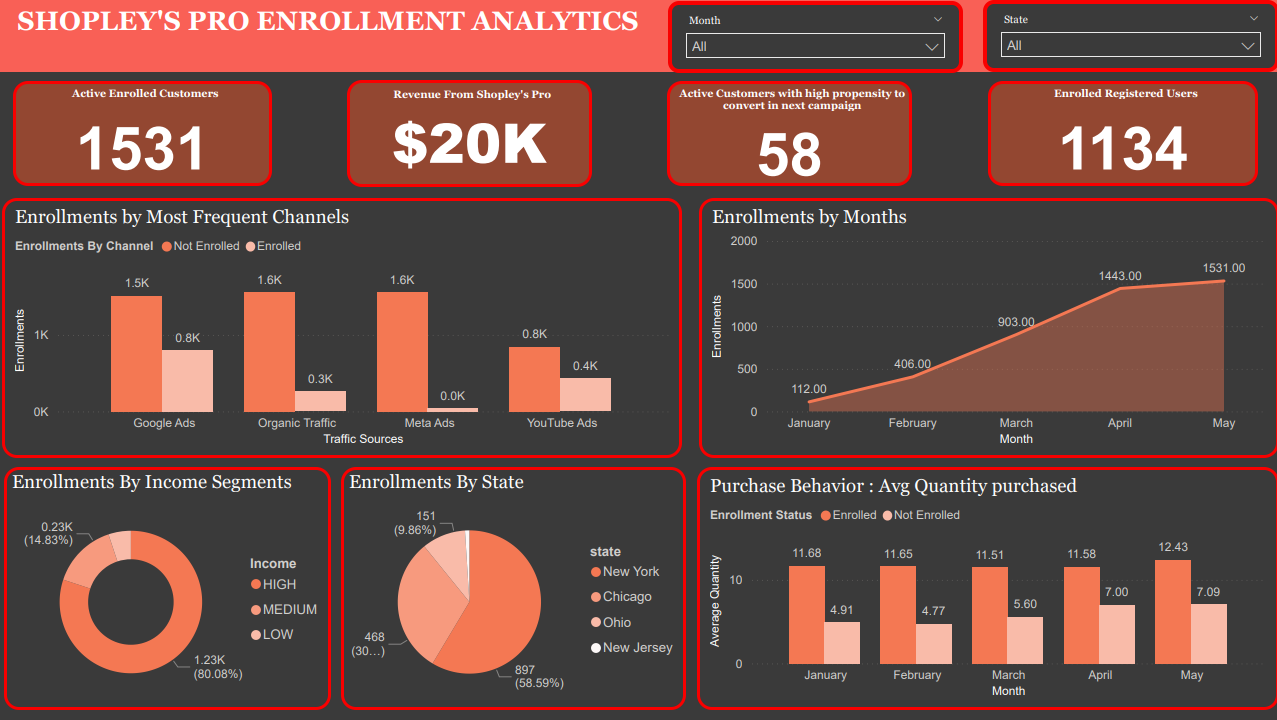

The dashboard page shown, as its layout file describes it:
{"tool":"powerbi","page":{"name":"Shopley Pro Subscription Analytics","canvas":[1280,720],"ordinal":1},"visuals":[{"type":"shape","box":[0,0,1280,72.2],"z":0},{"type":"textbox","box":[0,1.4,1062.9,70],"z":1000},{"type":"card","title":"Active Customers with high propensity to convert in next campaign","fields":{"Values":["Measures_Subscription_Analytics.Active Customers with more than 30% probability of conversion"]},"box":[668,80.8,245.3,105.3],"z":2000},{"type":"card","title":"Revenue From Shopley''s Pro","fields":{"Values":["Measures_Subscription_Analytics.Subscription Revenue YTD"]},"box":[347.6,79.8,245.7,107.1],"z":3000},{"type":"slicer","fields":{"Values":["MASTER_CUSTOMER_TABLE.state"]},"box":[983.6,0,296.4,71.8],"z":4000},{"type":"card","title":"Active Enrolled Customers","fields":{"Values":["Measures_Overview.Enrollment_Count"]},"box":[14.3,80.5,258.6,105.7],"z":5000},{"type":"pieChart","title":"Enrollments By State","fields":{"Category":["MASTER_CUSTOMER_TABLE.state"],"Y":["Measures_Overview.Enrollment_Count"]},"box":[341.7,466.7,345,243.3],"z":6000},{"type":"clusteredColumnChart","title":"Enrollments by Most Frequent Channels","fields":{"Y":["Count(MASTER_CUSTOMER_TABLE.customer_id)"],"Category":["MASTER_CUSTOMER_TABLE.traffic_Channel"],"Series":["Loyalty_Program_Data_CMA.enrollment_status"]},"box":[3.3,198.3,680,260],"z":7000},{"type":"card","title":"Enrolled Registered Users","fields":{"Values":["Measures_Subscription_Analytics.Enrolled Registered Users"]},"box":[988.6,80.5,270,105.7],"z":8000},{"type":"slicer","fields":{"Values":["Loyalty_Program_Data_CMA.enrollment_date.Variation.Date Hierarchy.Month"]},"box":[668.6,1.4,295.7,71.4],"z":9000},{"type":"donutChart","title":"Enrollments By Income Segments","fields":{"Y":["Measures_Overview.Enrollment_Count"],"Category":["MASTER_CUSTOMER_TABLE.income"]},"box":[5,466.7,326.7,243.3],"z":10000},{"type":"areaChart","title":"Enrollments by Months","fields":{"Category":["Loyalty_Program_Data_CMA.enrollment_date.Variation.Date Hierarchy.Month"],"Y":["Measures_Subscription_Analytics.Enrollment_Count_Running_Total"]},"box":[700,198.3,580,260],"z":11000},{"type":"clusteredColumnChart","title":"Purchase Behavior  : Avg Quantity purchased ","fields":{"Category":["Web_analytics_Data_CMA.date_of_visit.Variation.Date Hierarchy.Month"],"Y":["Measures_Subscription_Analytics.Avg_Quantities_Purchased_by_enrolled","Measures_Subscription_Analytics.Avg_Quantities_Purchased_by_not_enrolled"]},"box":[698.3,466.7,581.7,243.3],"z":12000}]}

Visuals, with their boxes in screenshot pixels (x1, y1, x2, y2), scaled from the page's 1280x720 canvas onto the 1277x720 screenshot:
shape: [0,0,1276,72]
textbox: [0,1,1060,71]
"Active Customers with high propensity to convert in next campaign" card: [666,81,911,186]
"Revenue From Shopley''s Pro" card: [347,80,592,187]
slicer - MASTER_CUSTOMER_TABLE.state: [981,0,1276,72]
"Active Enrolled Customers" card: [14,80,272,186]
"Enrollments By State" pieChart: [341,467,685,710]
"Enrollments by Most Frequent Channels" clusteredColumnChart: [3,198,682,458]
"Enrolled Registered Users" card: [986,80,1256,186]
slicer - Loyalty_Program_Data_CMA.enrollment_date.Variation.Date Hierarchy.Month: [667,1,962,73]
"Enrollments By Income Segments" donutChart: [5,467,331,710]
"Enrollments by Months" areaChart: [698,198,1276,458]
"Purchase Behavior  : Avg Quantity purchased " clusteredColumnChart: [697,467,1276,710]
